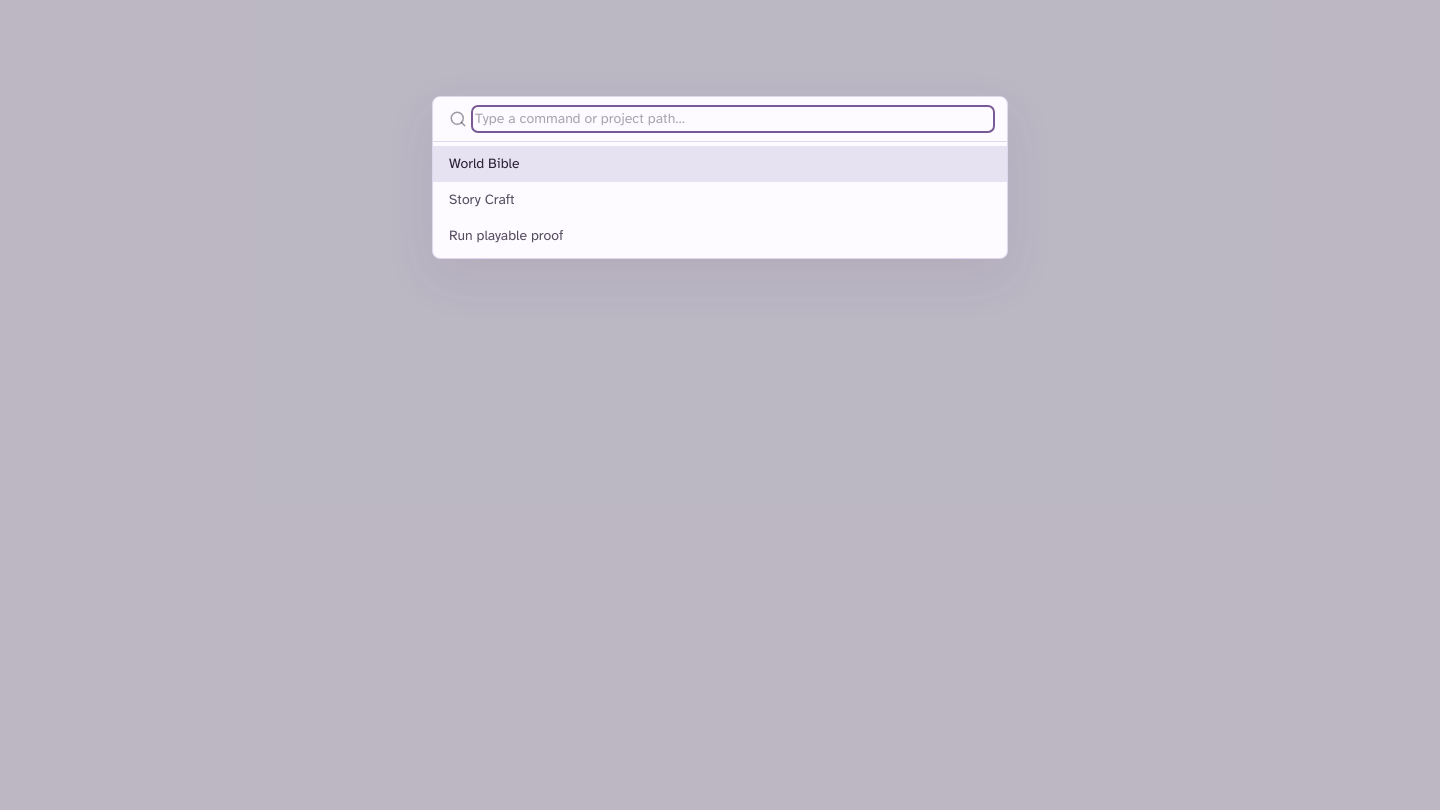
Test: StudioCommandPalette › offers an 'Open project' fallback action for a non-path, non-matching query
Type "zzzz-no-match" into the dropdown labelled "Type a command or project path…" at (733, 119), box [475,109,991,129]
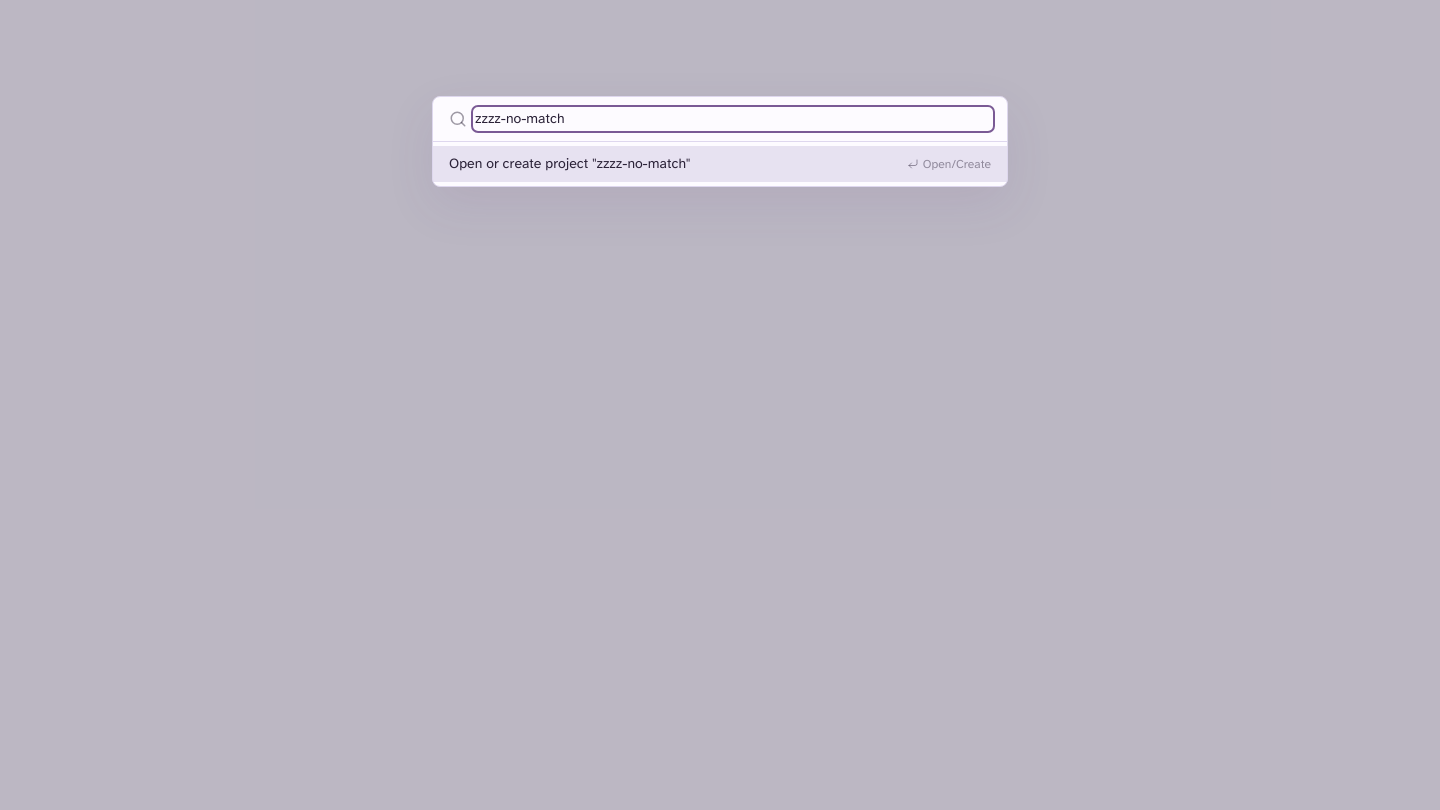
Expected: the text "Open or create project \"zzzz-no-match\"" is shown, [449,154,690,174]
